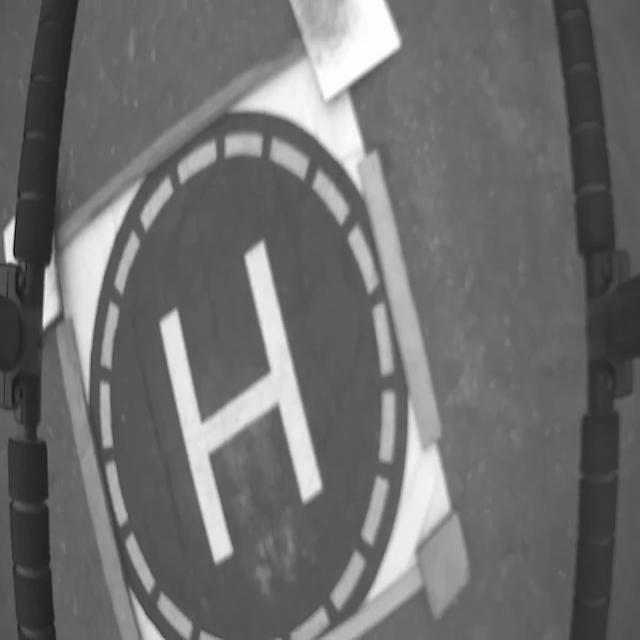Helipad: (158, 238, 322, 565)
